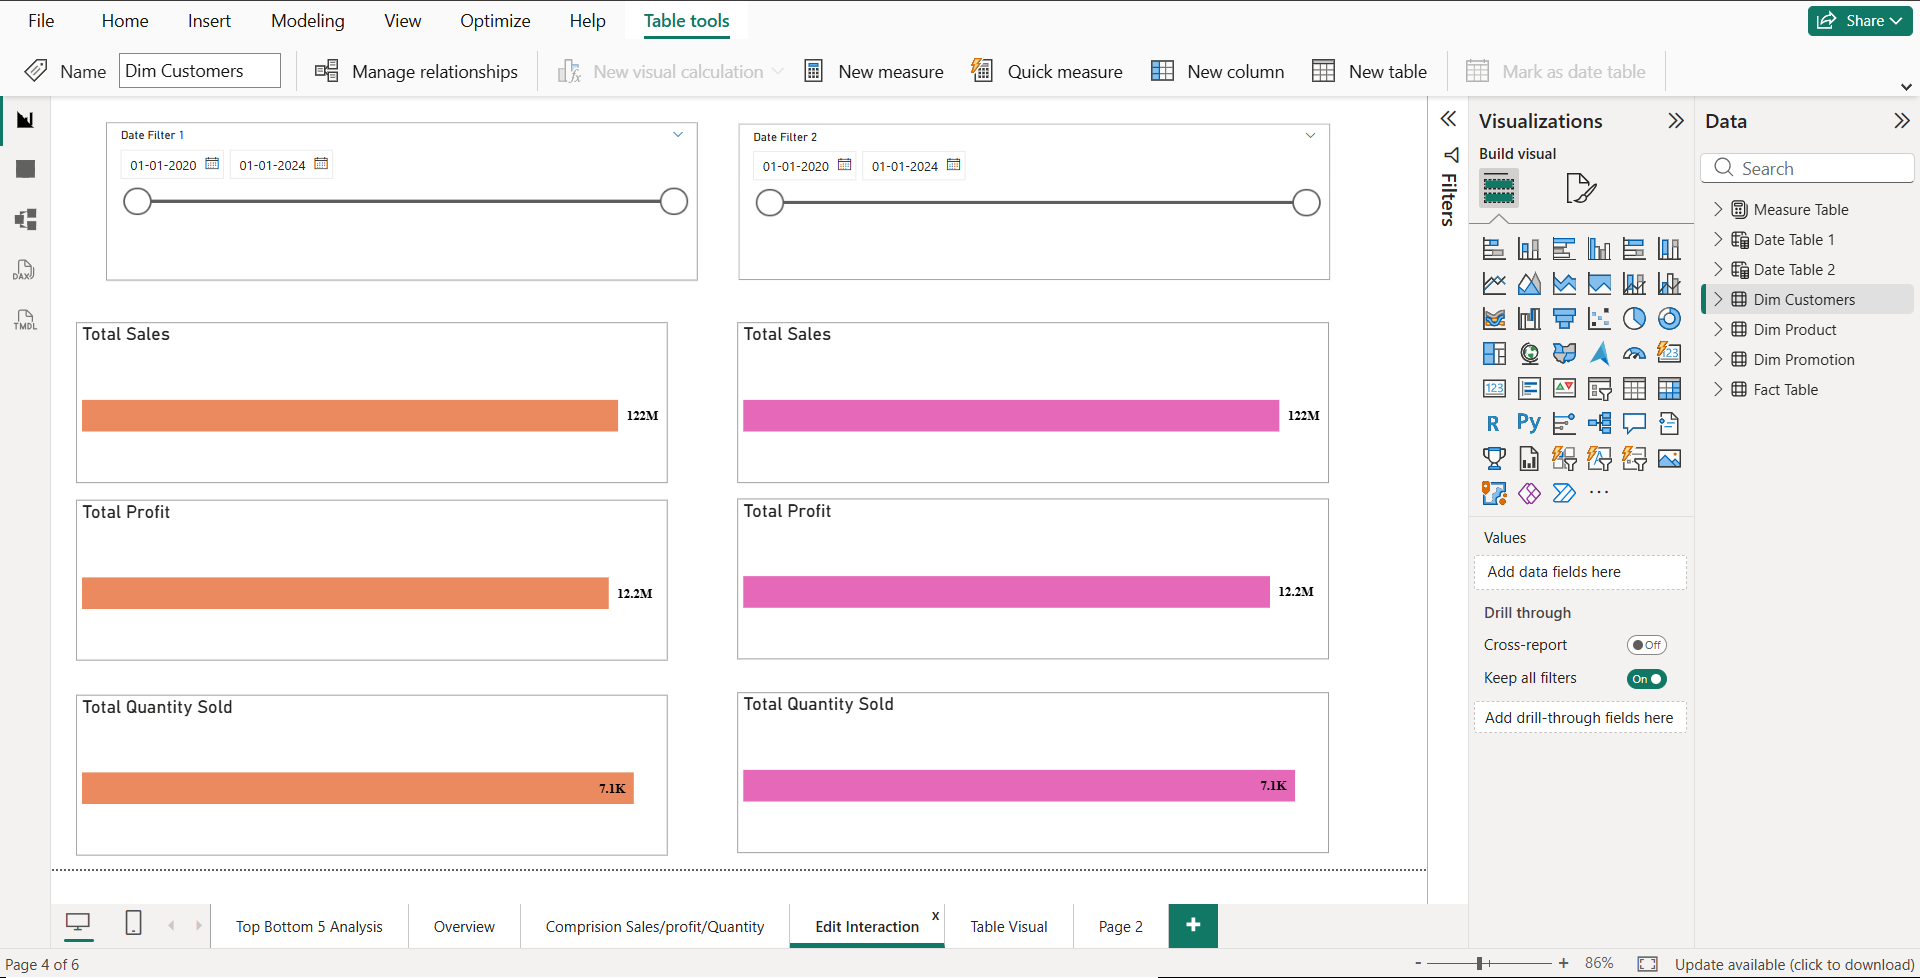

What the dashboard file says about the page in this screenshot:
{"tool":"powerbi","page":{"name":"Edit Interaction ","canvas":[1280,720],"ordinal":3},"visuals":[{"type":"slicer","fields":{"Values":["Fact Table.Date (dd/mm/yyyy)"]},"box":[639.5,26.1,550.3,145.5],"z":0},{"type":"slicer","fields":{"Values":["Fact Table.Date (dd/mm/yyyy)"]},"box":[50.8,24.7,550.3,146.8],"z":1000},{"type":"barChart","fields":{"Y":["Sum(Fact Table.Net Sales)"]},"box":[23.3,209.9,550.3,149.6],"z":2000},{"type":"barChart","fields":{"Y":["Sum(Fact Table.Profit)"]},"box":[23.3,376,550.3,149.6],"z":3000},{"type":"barChart","fields":{"Y":["Sum(Fact Table.Units Sold)"]},"box":[23.3,557.1,550.3,149.6],"z":4000},{"type":"barChart","fields":{"Y":["Sum(Fact Table.Net Sales)"]},"box":[638.1,209.9,550.3,149.6],"z":5000},{"type":"barChart","fields":{"Y":["Sum(Fact Table.Profit)"]},"box":[638.2,373.9,550.3,149.6],"z":6000},{"type":"barChart","fields":{"Y":["Sum(Fact Table.Units Sold)"]},"box":[638.2,555,550.3,149.6],"z":7000}]}

Visuals, with their boxes on the page's 1280x720 design canvas (x1, y1, x2, y2). These are canvas units, not pixel positions in the 1920x978 screenshot, which may show the page scaled, cropped or inside an application window:
slicer - Fact Table.Date (dd/mm/yyyy): crop(640, 26, 1190, 172)
slicer - Fact Table.Date (dd/mm/yyyy): crop(51, 25, 601, 172)
barChart - Sum(Fact Table.Net Sales): crop(23, 210, 574, 360)
barChart - Sum(Fact Table.Profit): crop(23, 376, 574, 526)
barChart - Sum(Fact Table.Units Sold): crop(23, 557, 574, 707)
barChart - Sum(Fact Table.Net Sales): crop(638, 210, 1188, 360)
barChart - Sum(Fact Table.Profit): crop(638, 374, 1188, 524)
barChart - Sum(Fact Table.Units Sold): crop(638, 555, 1188, 705)
